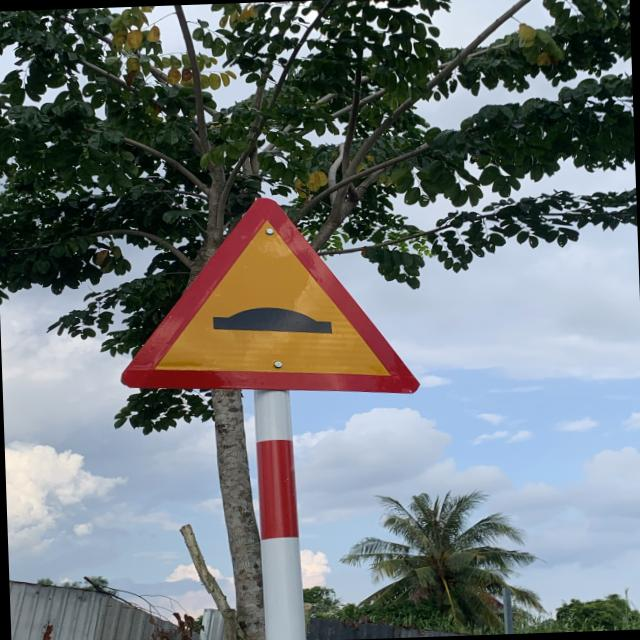Duong_Cong_Ben_Phai: (116, 193, 418, 402)
